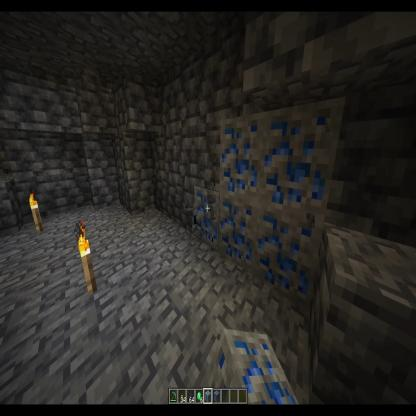lapis ore: (254, 89, 349, 205), (200, 329, 301, 413), (255, 205, 326, 307), (218, 112, 262, 208), (217, 197, 254, 276), (192, 182, 218, 254)
